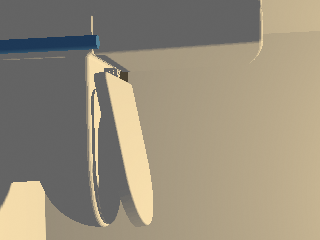lid_1: (94, 73, 153, 228)
